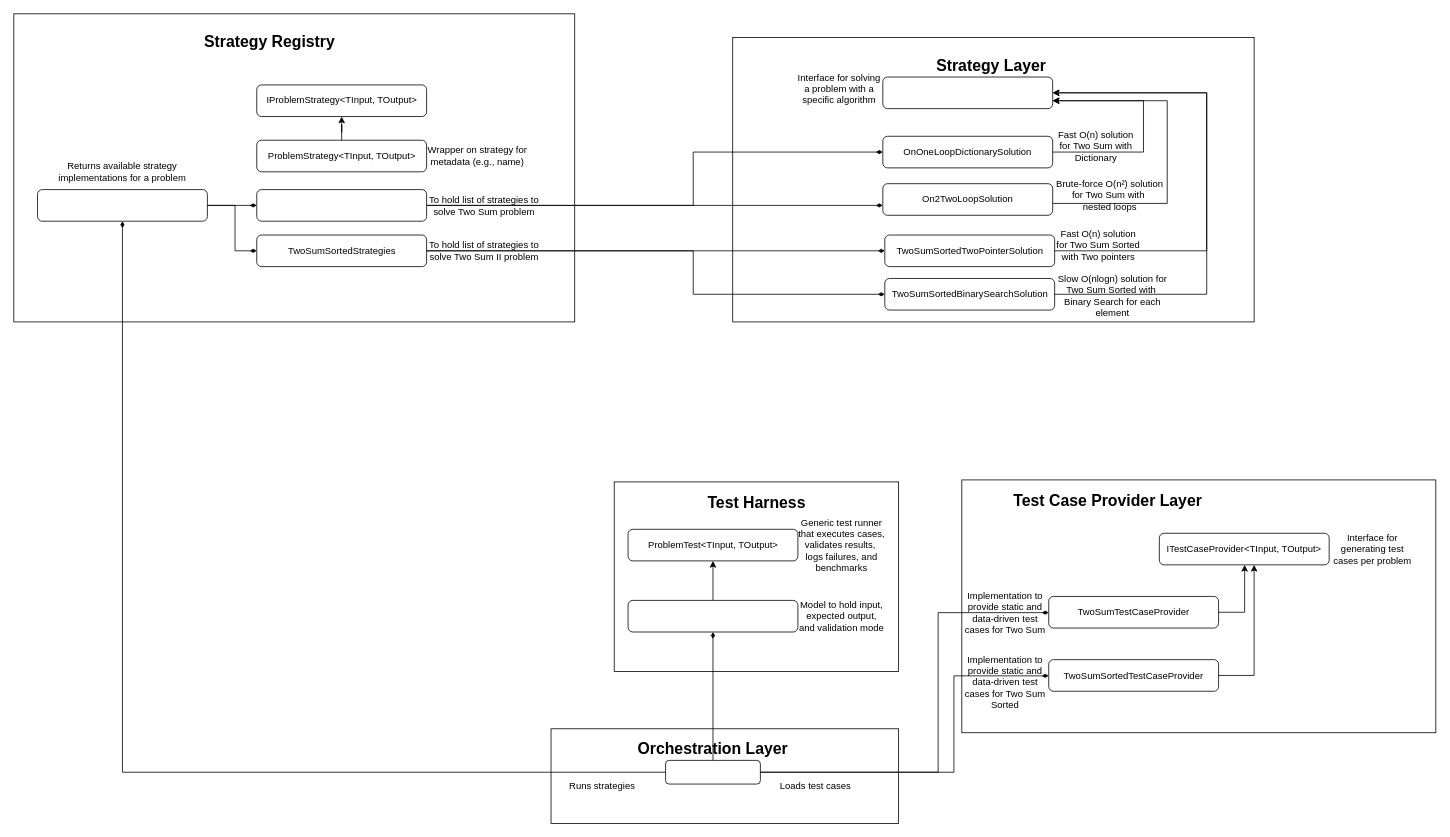
Some shapes in this 1450 by 837 pixel diagram are drawn without their labels. The box of each missing label's shape, as (x1, y1, x2, y2) in pixels:
IProblemSolution<TInput, TOutput>: (882, 76, 1053, 109)
ProblemStrategyFactory: (37, 189, 207, 221)
Program.cs: (665, 760, 760, 784)
TestCase: (627, 600, 798, 632)
TwoSumStrategies: (256, 189, 427, 221)
